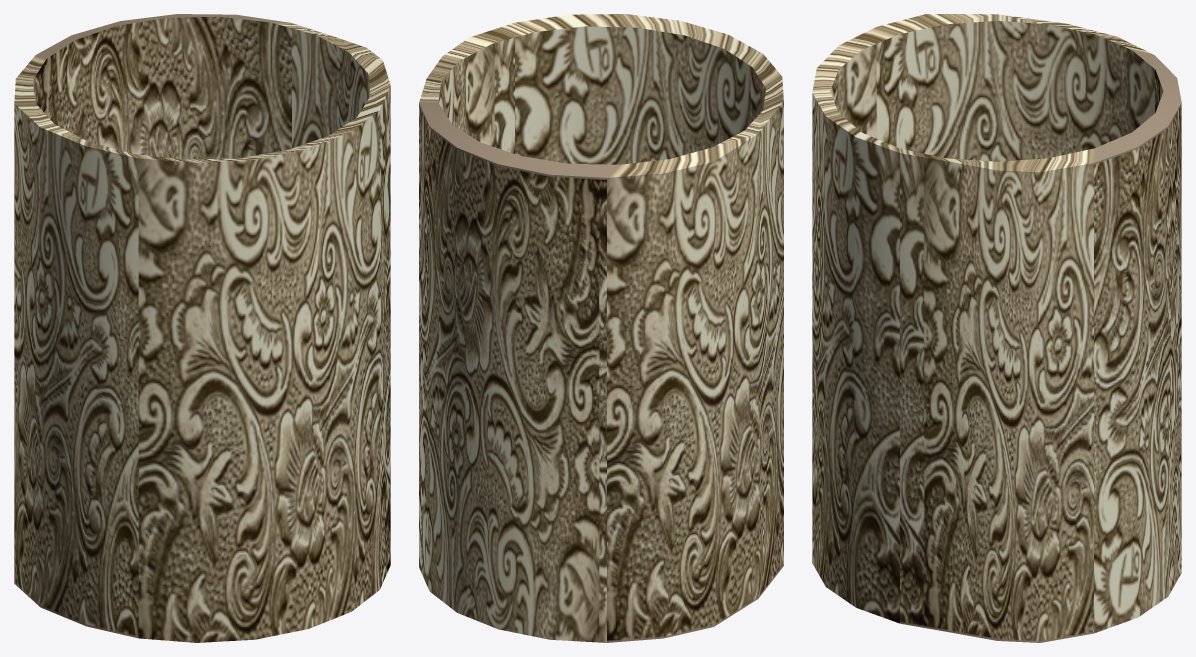
Rendered from cola.obj.
The picture shows the model from 3 angles, left to right: view 1: azimuth 30°, elevation 25°; view 2: azimuth 150°, elevation 25°; view 3: azimuth 270°, elevation 25°; orthographic projection. The views are drawn at different scales.
Visible parts, largest first — view 1: pCylinder1; view 2: pCylinder1; view 3: pCylinder1.
Boxes of the visible parts, x1,y1,x2,y2 form: pCylinder1: (14,14,390,642); pCylinder1: (419,14,783,642); pCylinder1: (812,14,1181,642).
Size of the model in its own units: 0.1927 by 0.2764 by 0.1927.
